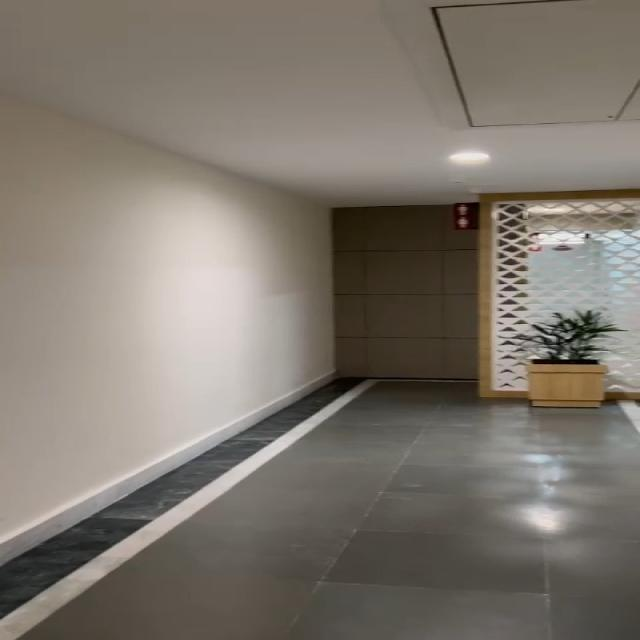floor: (6, 551, 640, 640), (299, 398, 640, 556), (102, 426, 315, 556)
furniture: (518, 307, 618, 413)
wall: (0, 94, 334, 396)
